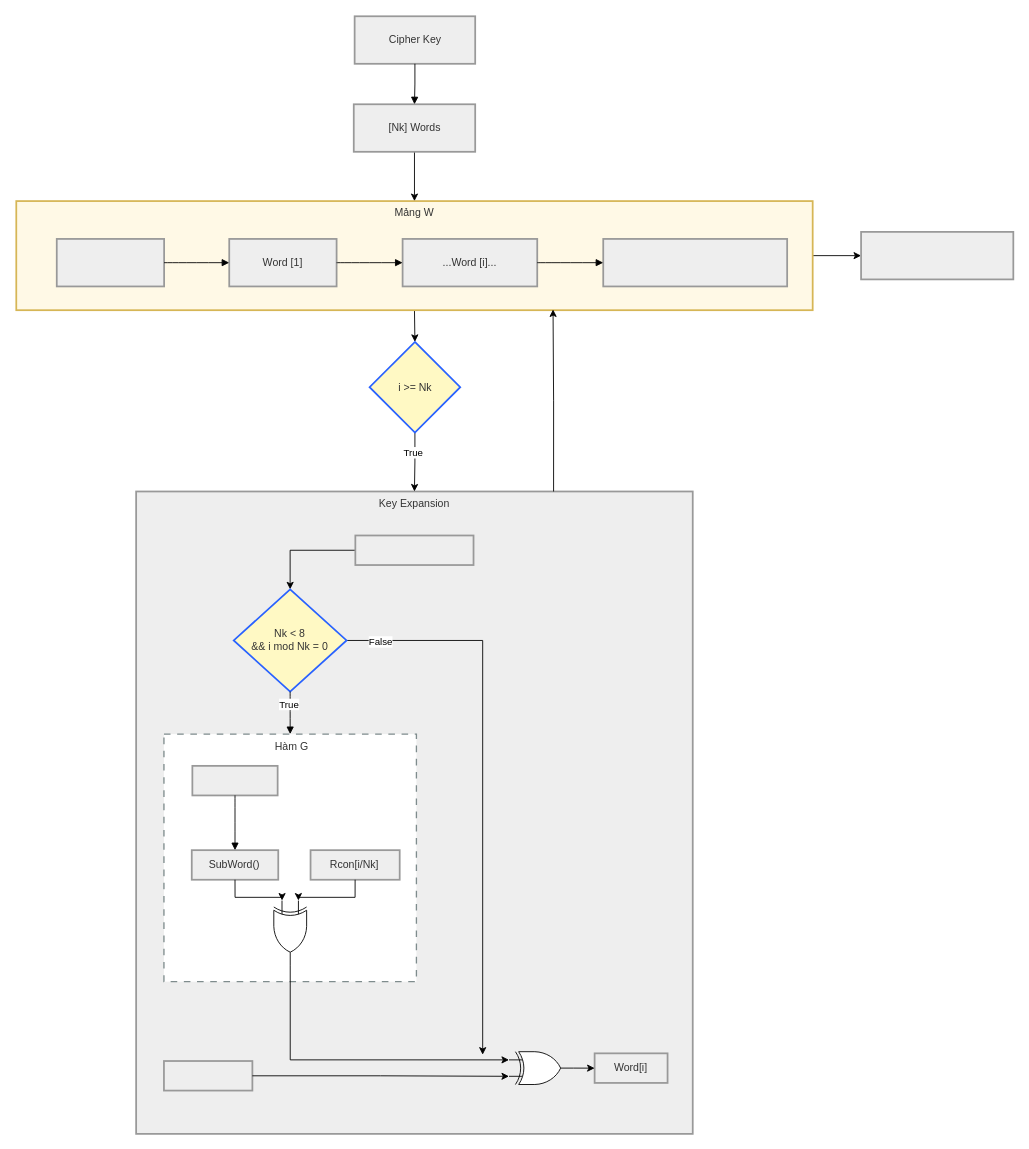
The diagram is 1029 pixels wide and 1149 high, and some of its shapes have lost their labels. The centre of each missing label's shape, as x and y in pixels:
"[Nr] Round Keys" goes at point 937,255.
"RotWord()" goes at point 234,780.
"temp = Word[i-1]" goes at point 414,549.
"Word [0]" goes at point 110,262.
"Word [Nb x (Nr+1)-1]" goes at point 695,262.
"Word[i-Nk]" goes at point 208,1075.
